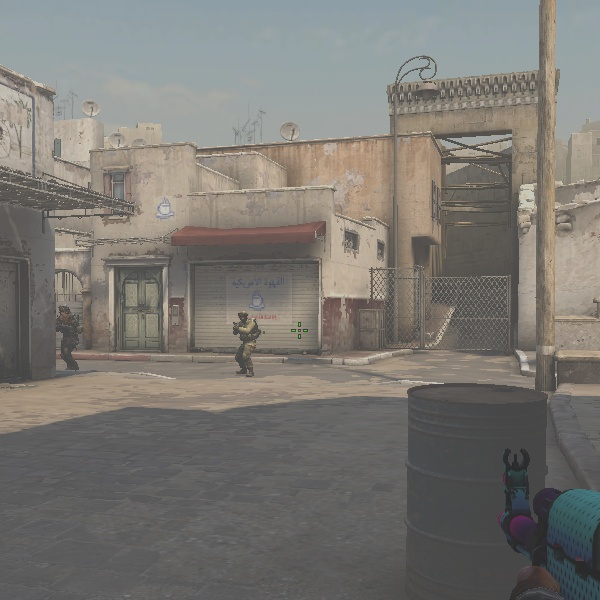ct_body: (224, 308, 263, 378)
